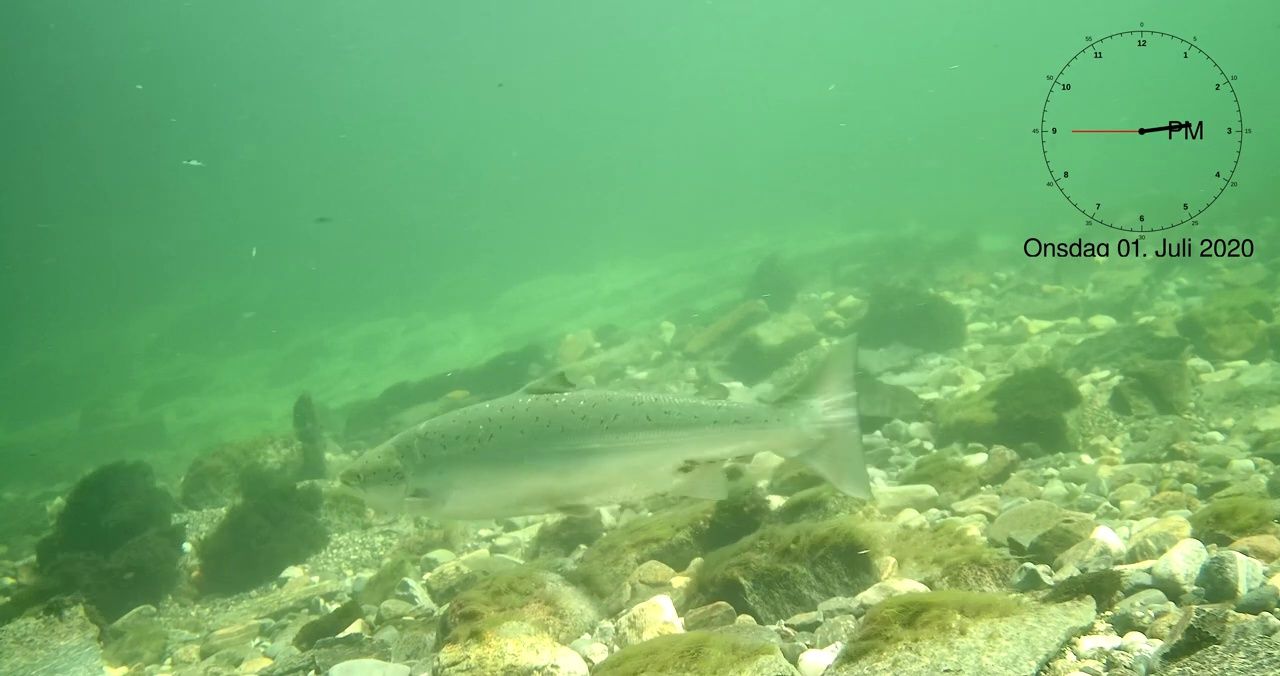salmon: (335, 332, 877, 523)
